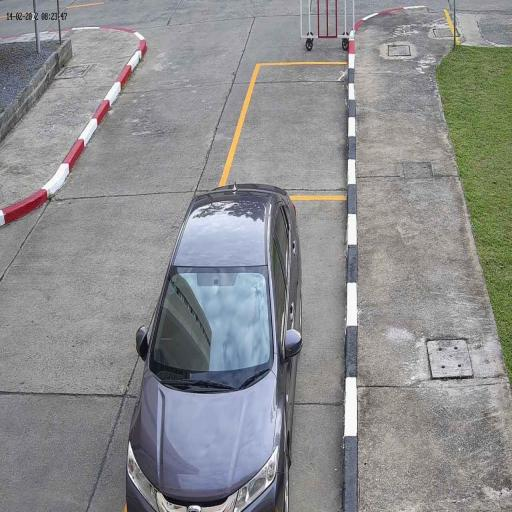car: (123, 180, 303, 512)
